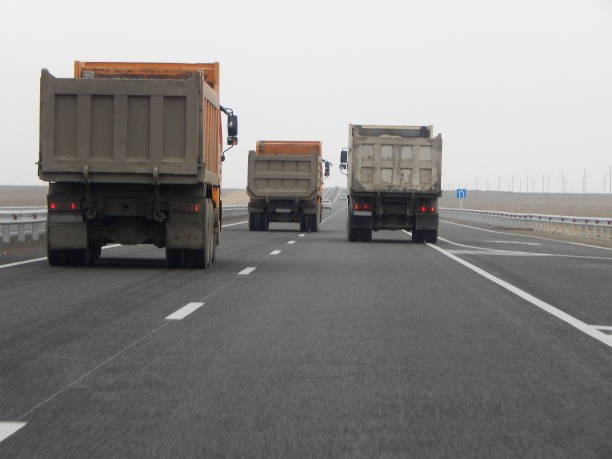HeavyVehicle: (343, 123, 447, 244)
